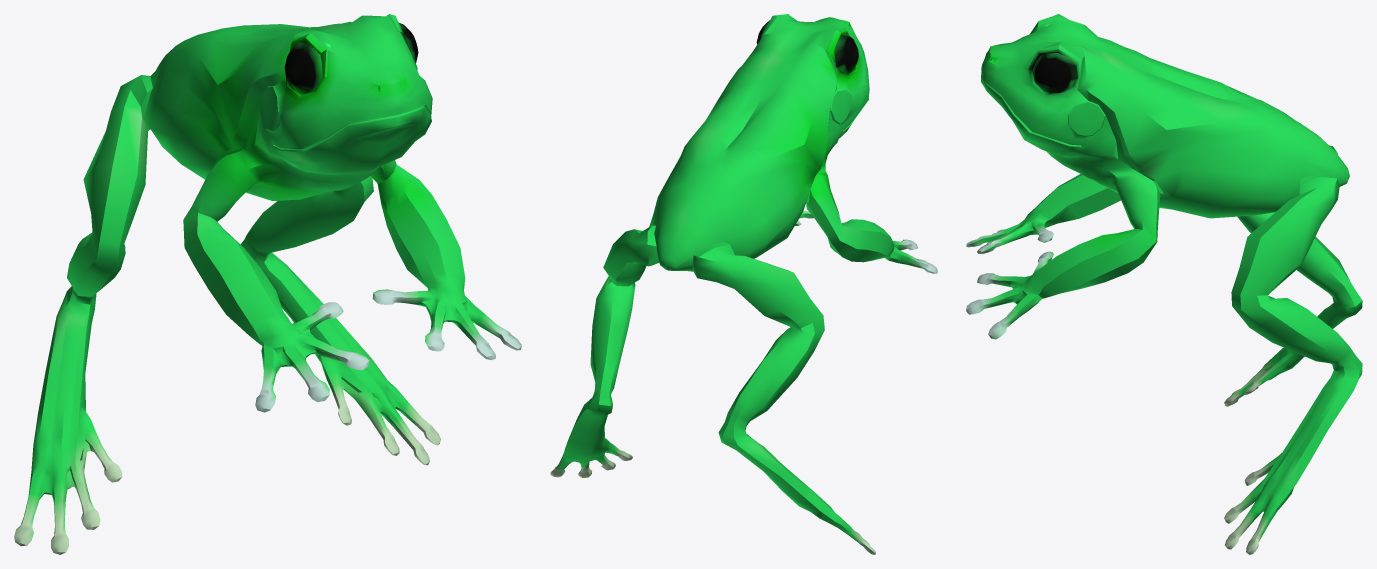
The model's file is Frog.fbx.
3 renders of one model, left to right at view 1: azimuth 30°, elevation 25°; view 2: azimuth 150°, elevation 25°; view 3: azimuth 270°, elevation 25°, orthographic. The views are drawn at different scales.
Visible parts, largest first — view 1: Frog; view 2: Frog; view 3: Frog.
Part boxes in pixels (bbox=[...]): Frog: bbox=[14, 14, 521, 554]; Frog: bbox=[550, 14, 937, 554]; Frog: bbox=[966, 14, 1362, 554].
Bounding box in the file's own units: 16556 × 20968 × 16801.
